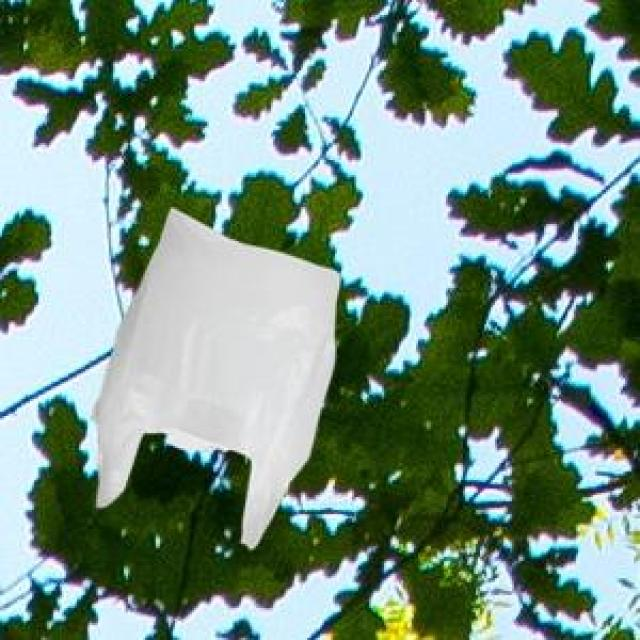plastic: (74, 195, 376, 589)
